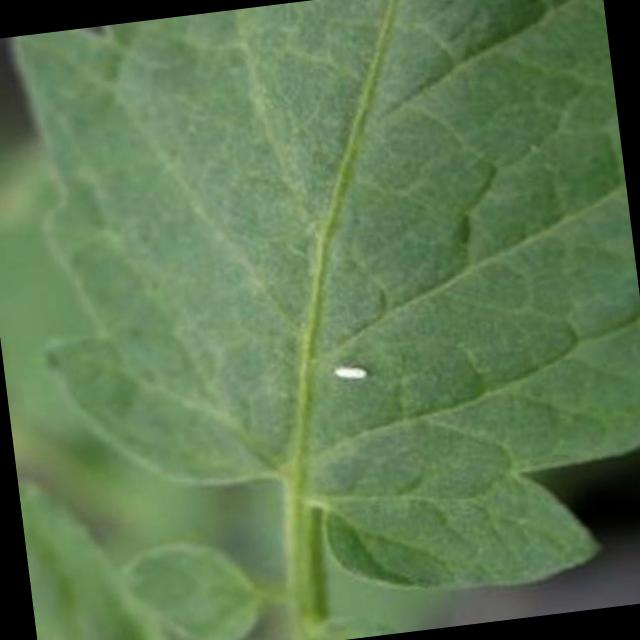Silverleaf whitefly: (299, 327, 408, 430)
